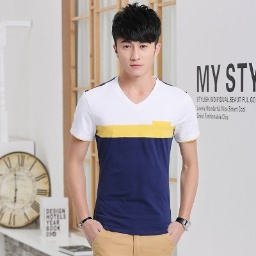face: (112, 3, 164, 79)
